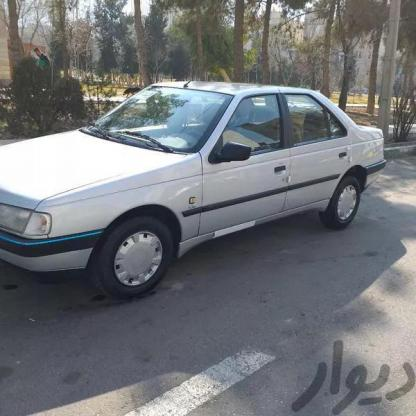Car: (0, 76, 393, 278)
